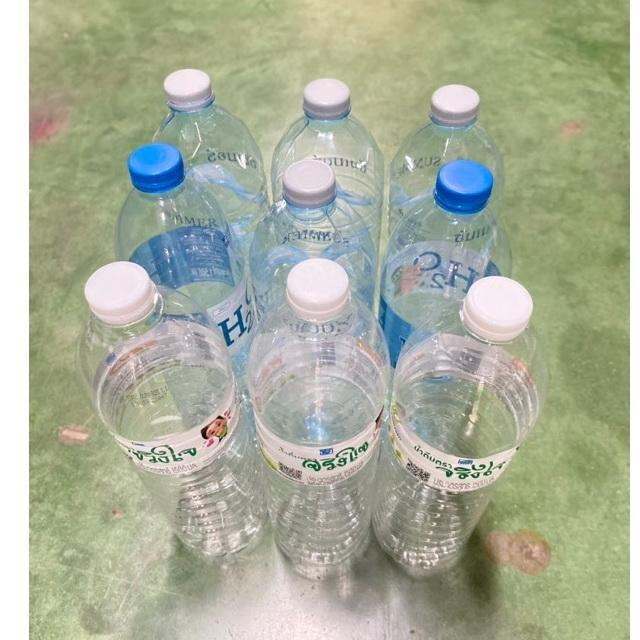PET Bottle: (60, 225, 266, 606), (369, 269, 547, 633), (228, 265, 394, 637), (102, 120, 266, 315), (381, 160, 525, 350), (118, 24, 287, 182), (244, 39, 402, 195), (354, 87, 552, 202), (239, 154, 381, 279)
